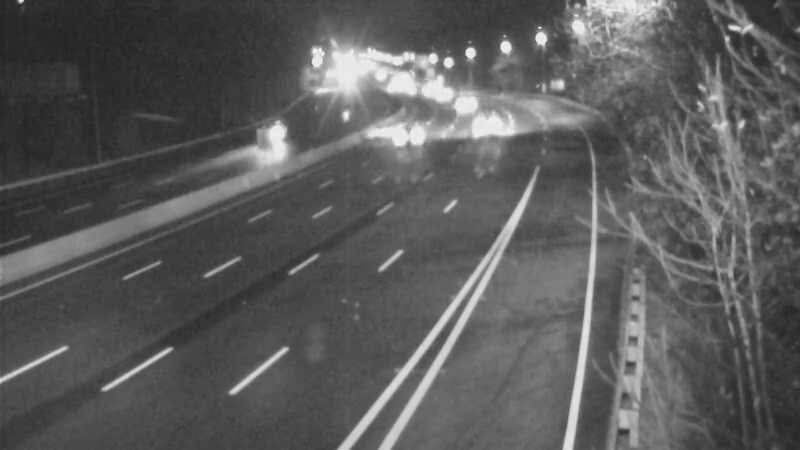vehicle: (422, 70, 472, 120), (440, 80, 490, 130), (462, 99, 512, 149), (357, 102, 407, 152), (384, 108, 434, 158), (253, 110, 303, 160)
